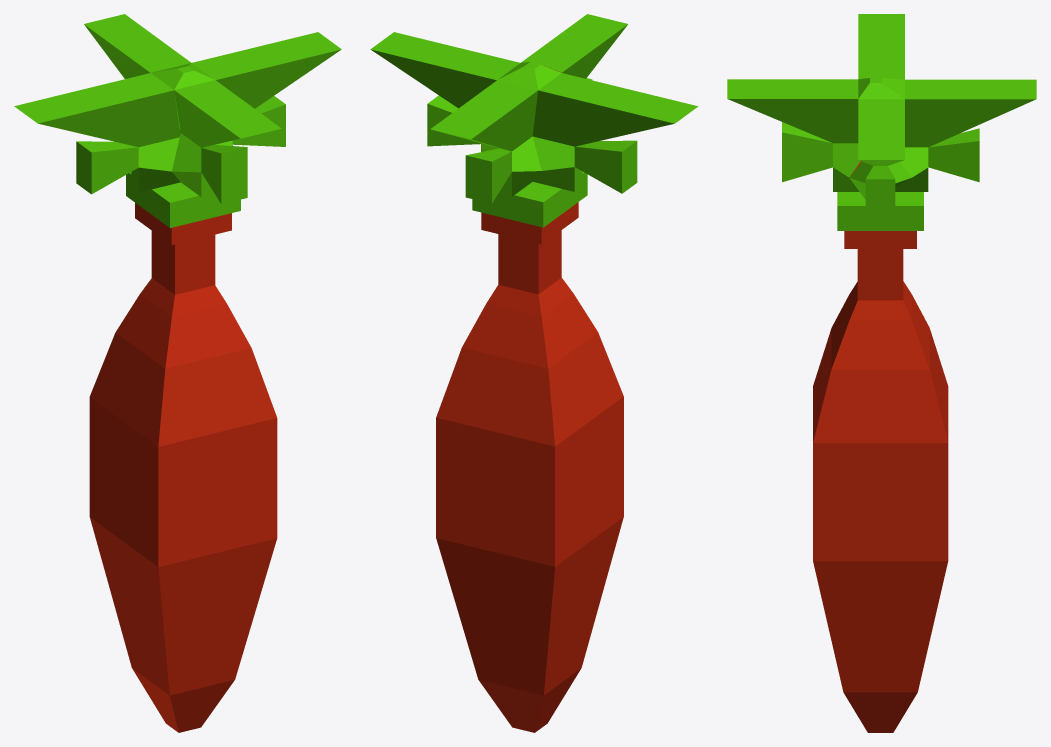
Rendered from TestObj3.obj.
3 views of the same model, side by side, from view 1: azimuth 30°, elevation 25°; view 2: azimuth 150°, elevation 25°; view 3: azimuth 270°, elevation 25° (orthographic).
Visible parts, largest first — view 1: Cube; view 2: Cube; view 3: Cube.
Boxes of the visible parts, x1,y1,x2,y2 form: Cube: [14, 14, 341, 732]; Cube: [370, 14, 697, 732]; Cube: [727, 14, 1036, 732].
Size of the model in its own units: 30.46 by 62.93 by 27.24.
